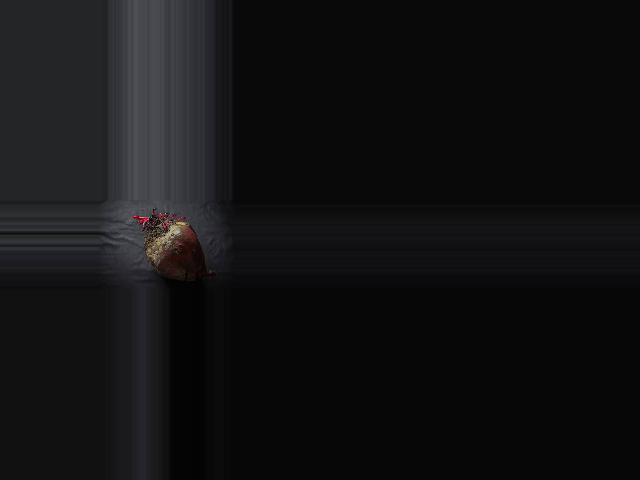beet: (132, 208, 217, 281)
